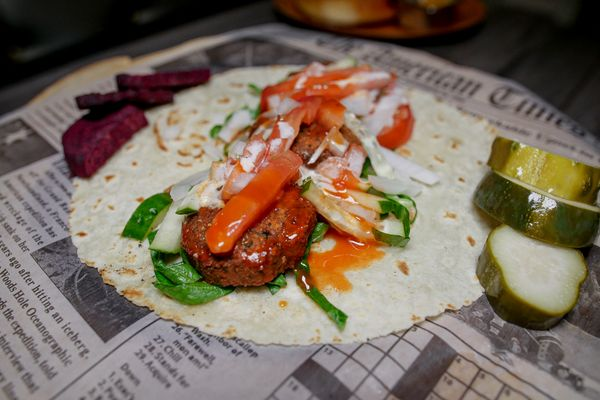curry: (8, 0, 598, 391)
pizza: (206, 151, 303, 255)
